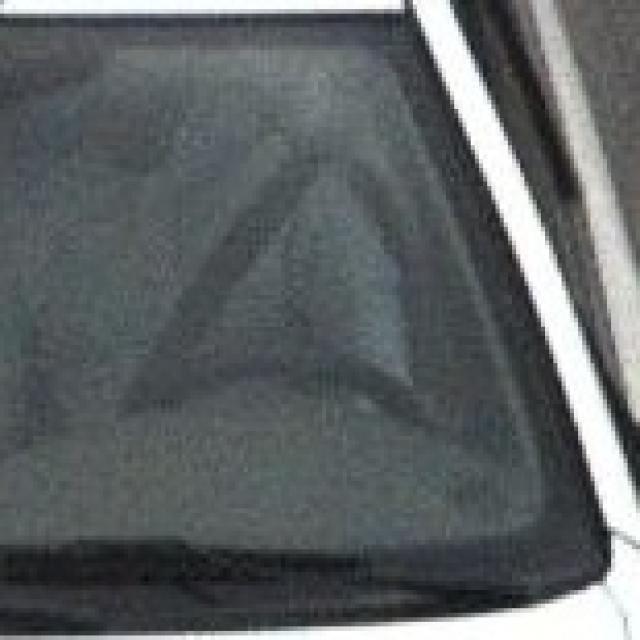windshield: (3, 9, 624, 626)
